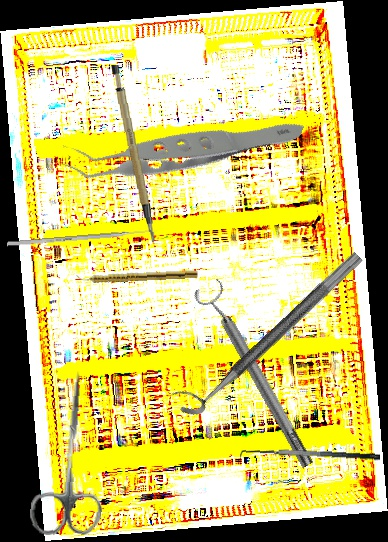Fixation Ring: (168, 236, 365, 423), (191, 276, 322, 475)
Handpiece: (75, 267, 199, 285)
Iris Scissors: (28, 368, 112, 539)
Pusher: (7, 228, 158, 247)
Scalpel Handle: (108, 62, 157, 245)
Spatula Surgical: (239, 443, 381, 472)
Tissue Forceps: (54, 42, 306, 248)
